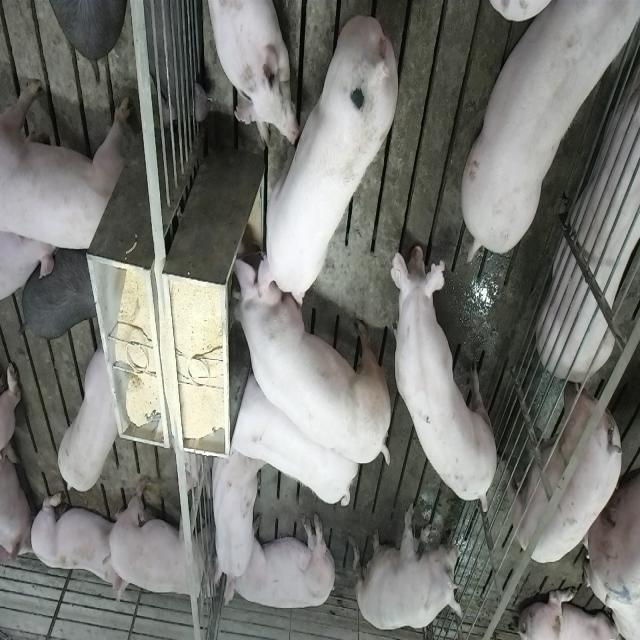Feeding: (250, 15, 400, 309), (223, 244, 389, 466)
Lateral_lying: (222, 511, 338, 611)
Sitting: (355, 502, 463, 632)
Standing: (458, 0, 634, 258), (394, 235, 502, 512), (2, 73, 132, 255), (508, 377, 628, 564), (228, 374, 360, 512), (106, 474, 220, 608), (54, 342, 122, 498), (18, 242, 98, 340)
Sternal_lying: (539, 41, 640, 377), (203, 0, 295, 148), (27, 485, 123, 605), (206, 446, 262, 594)
